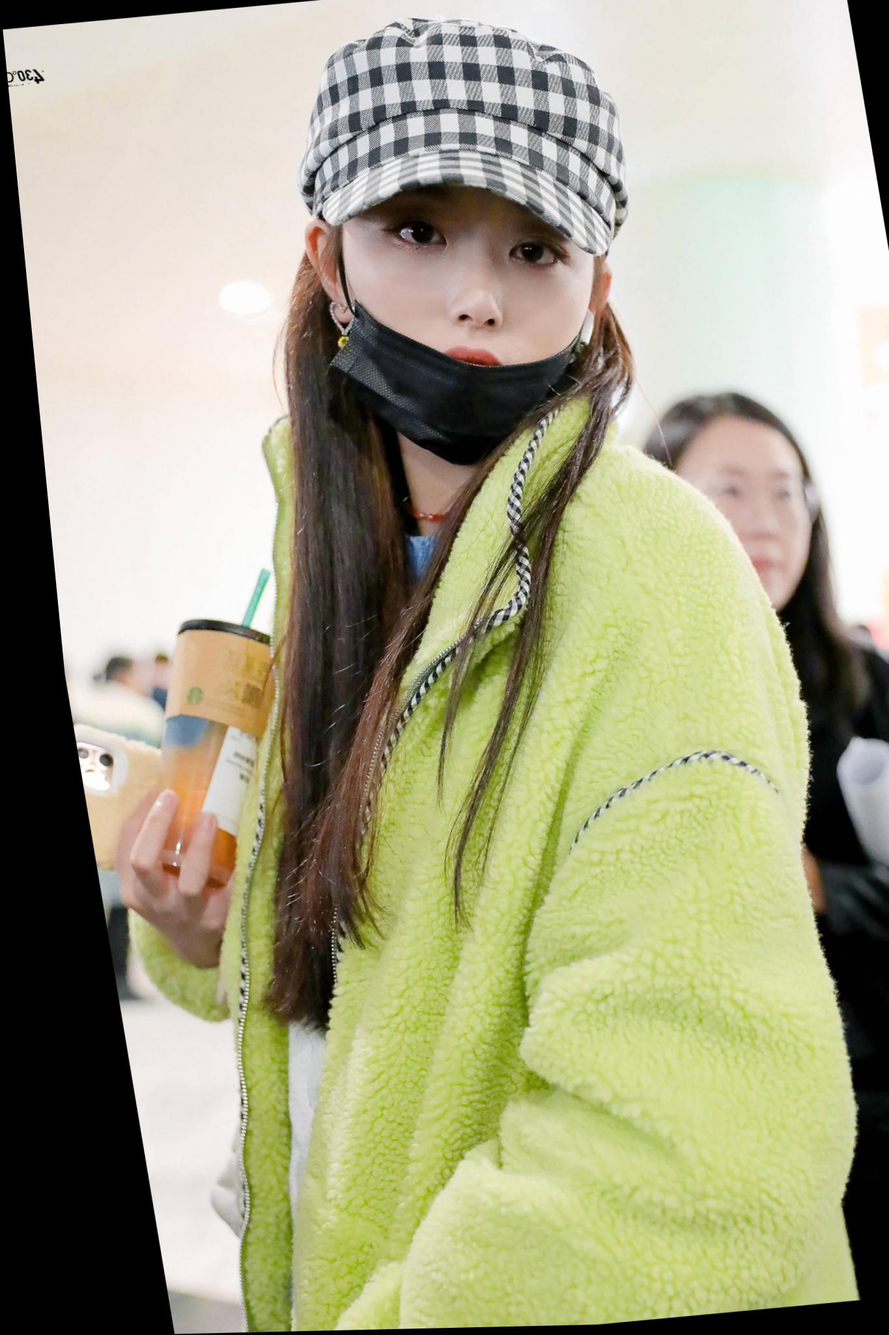NONE: (672, 450, 820, 630)
WRONG: (320, 158, 612, 477)
